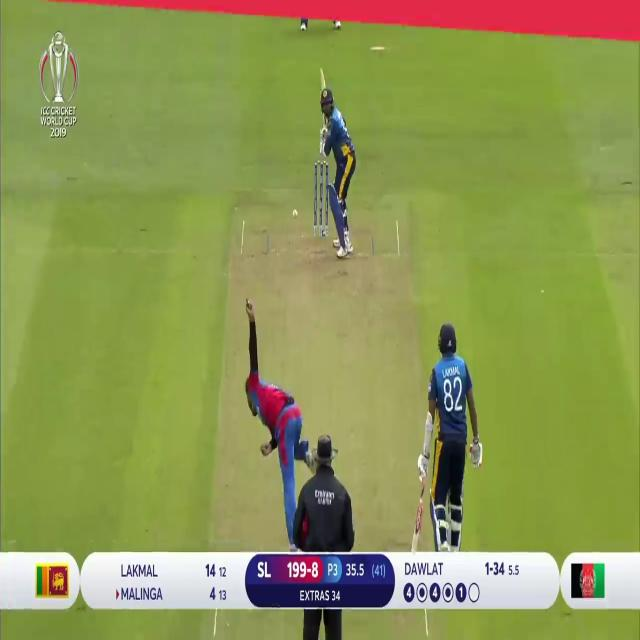ball: (290, 205, 300, 222)
